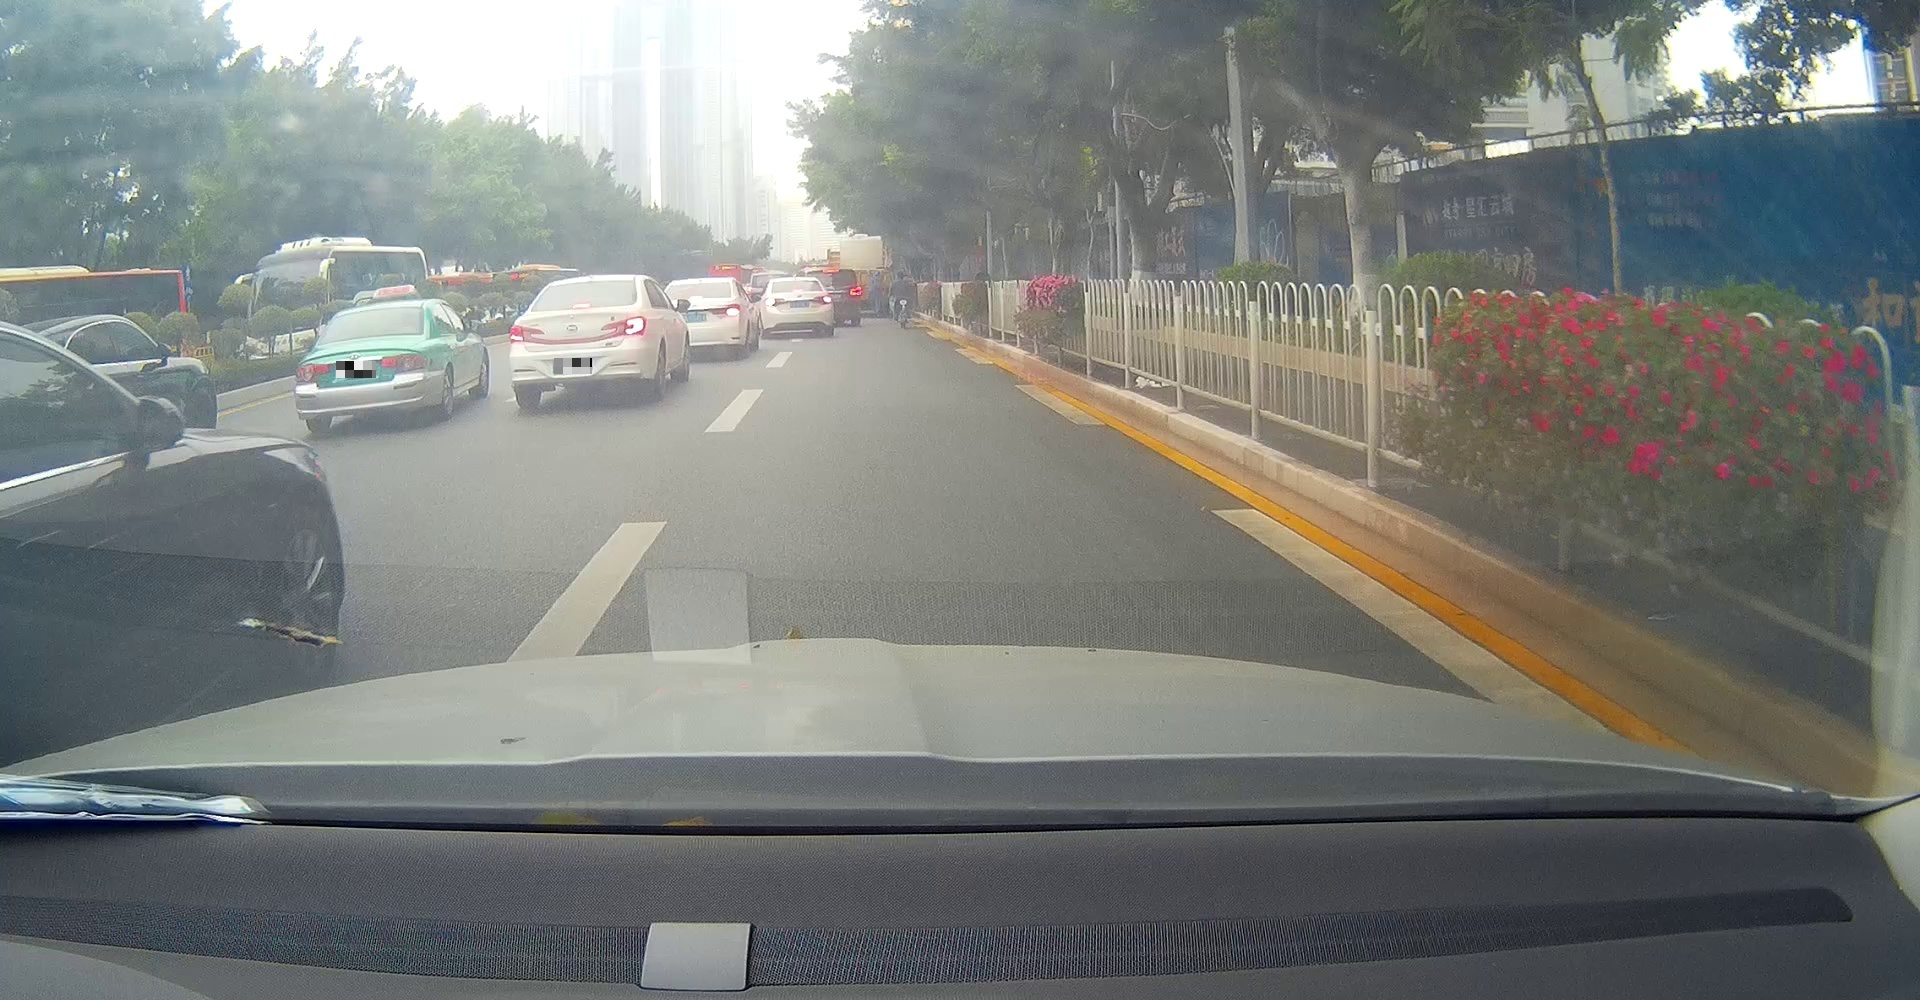L_light: (295, 362, 331, 382), (510, 324, 545, 343), (764, 298, 783, 307)
R_light: (602, 315, 646, 338), (381, 352, 425, 371), (813, 296, 832, 305)
T_light: (361, 308, 382, 313), (573, 303, 592, 308), (792, 289, 803, 292)
day-brake: (509, 274, 648, 409), (763, 277, 833, 338)
day-no: (295, 299, 428, 431)
plate_1: (337, 360, 376, 378)
plate_2: (554, 358, 592, 374)
